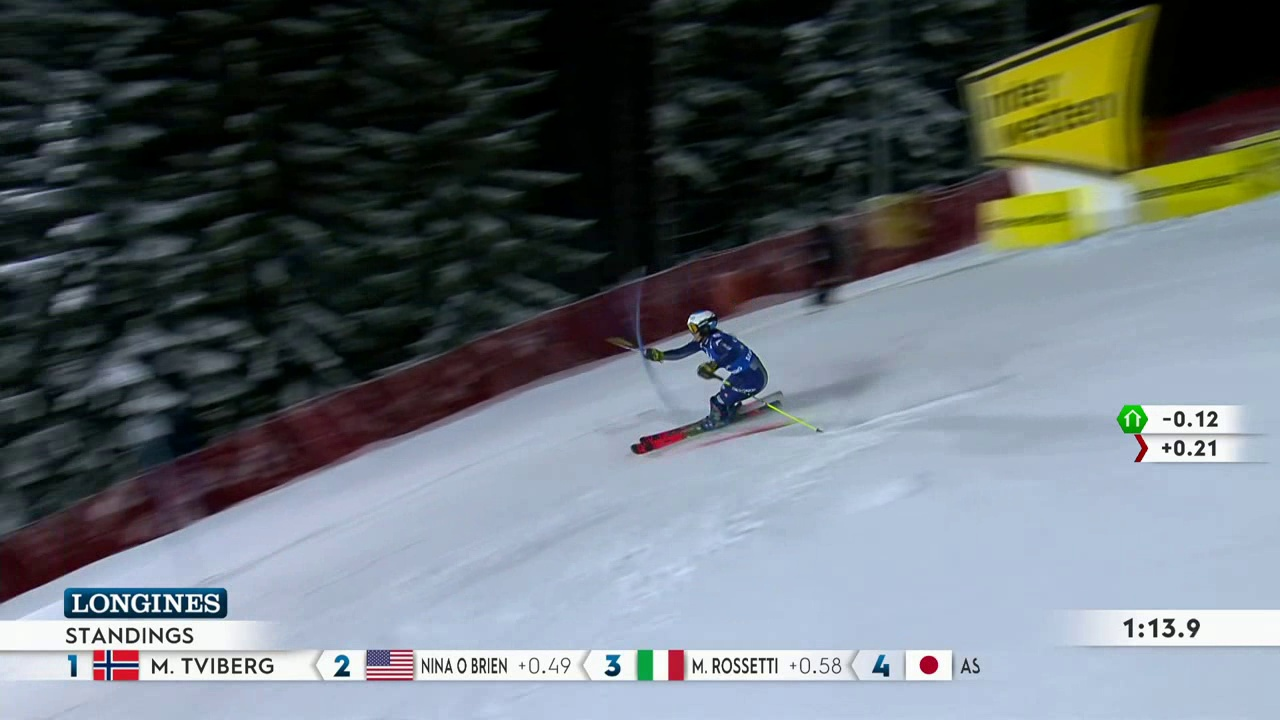interwetten: (983, 50, 1125, 154)
longines: (66, 585, 226, 621)
